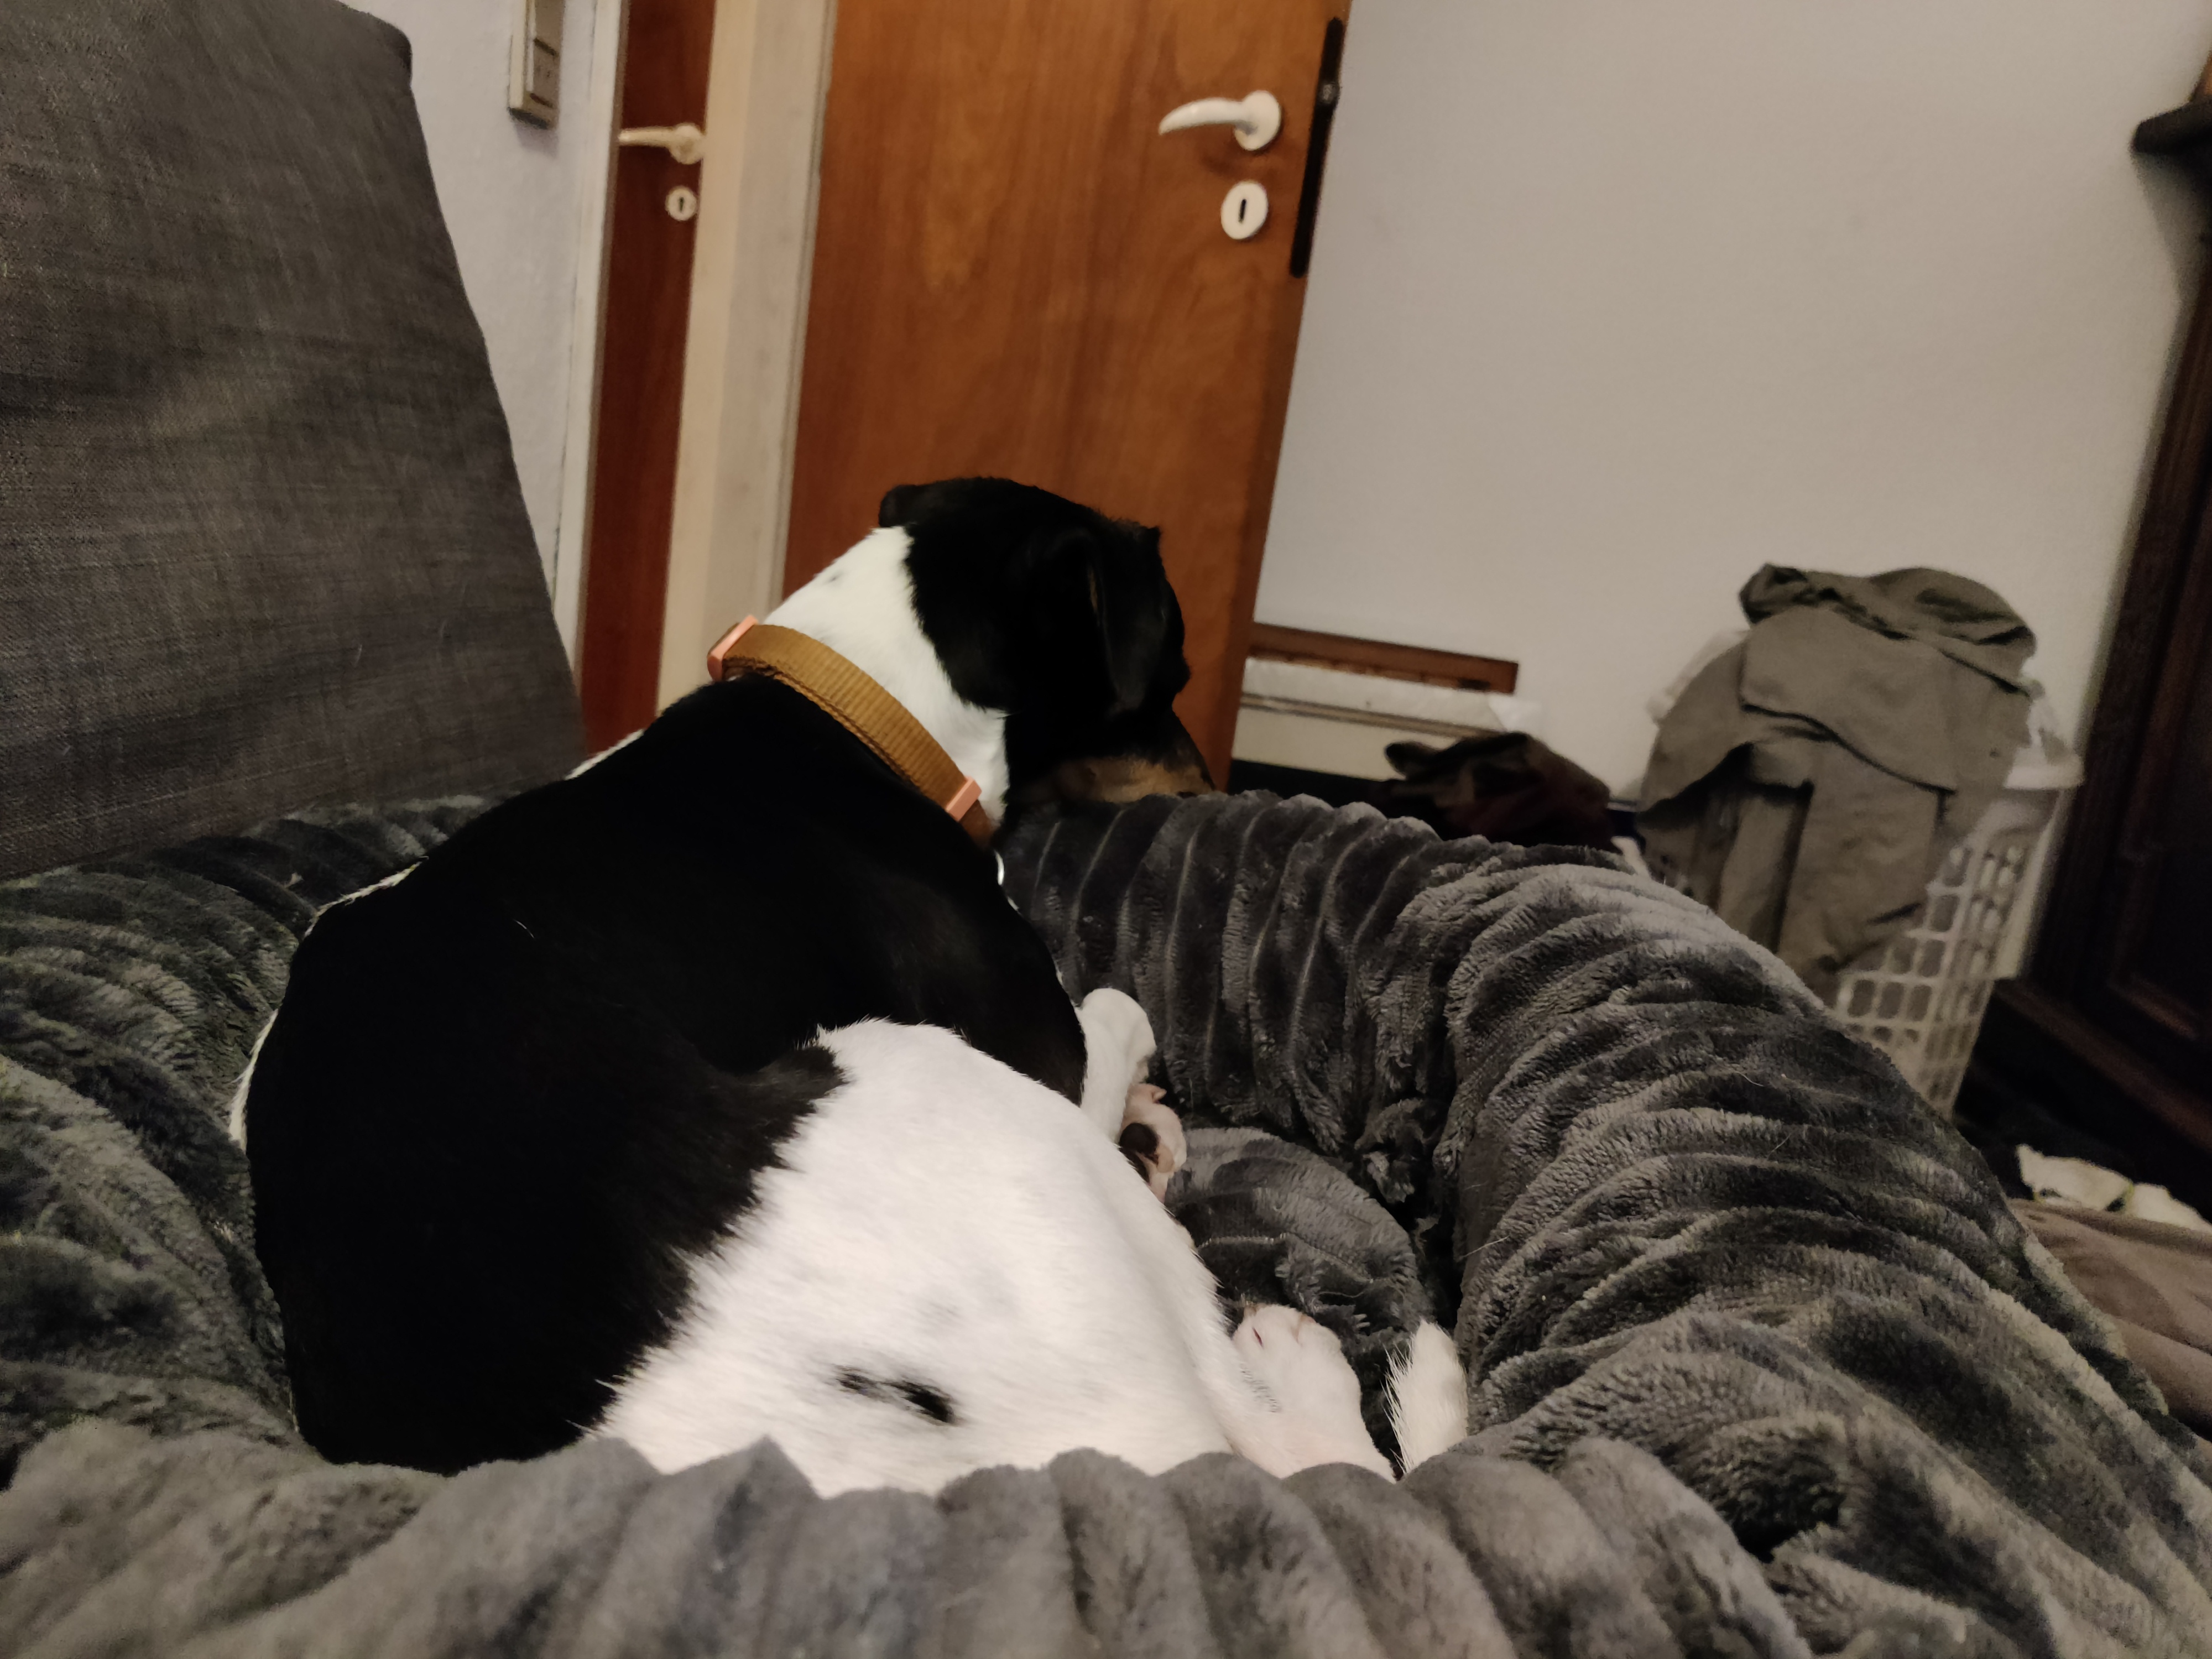Dog: (228, 469, 1475, 1527)
